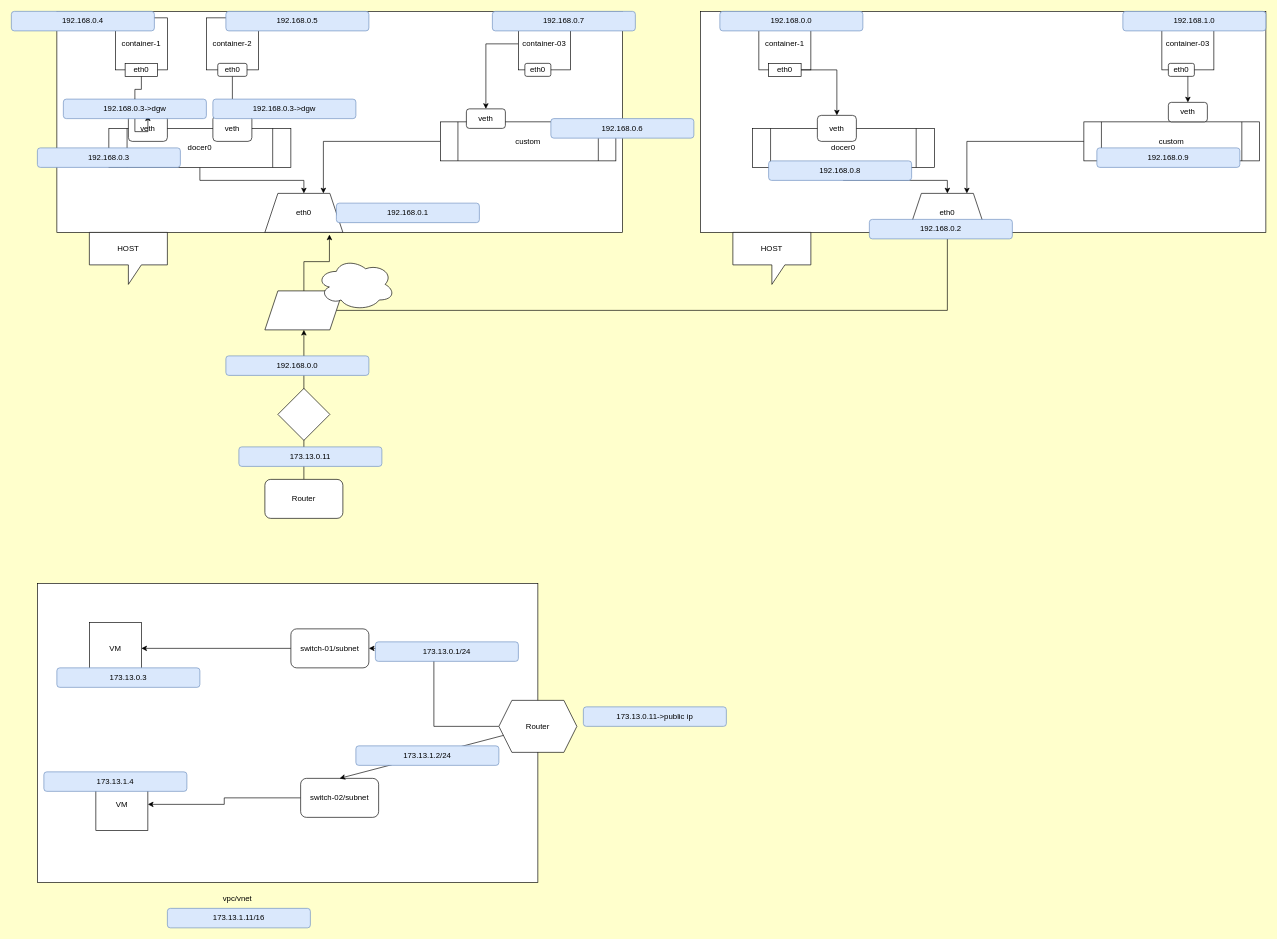
Image size: 1277x939. Some labels were removed from this diagram. The shapes that lost their labels are listed below. From the top down, each one's centre as x and y in pixels, then its label:
the point at 355,284: DHCP
the point at 303,310: Switch
the point at 303,414: NAT
